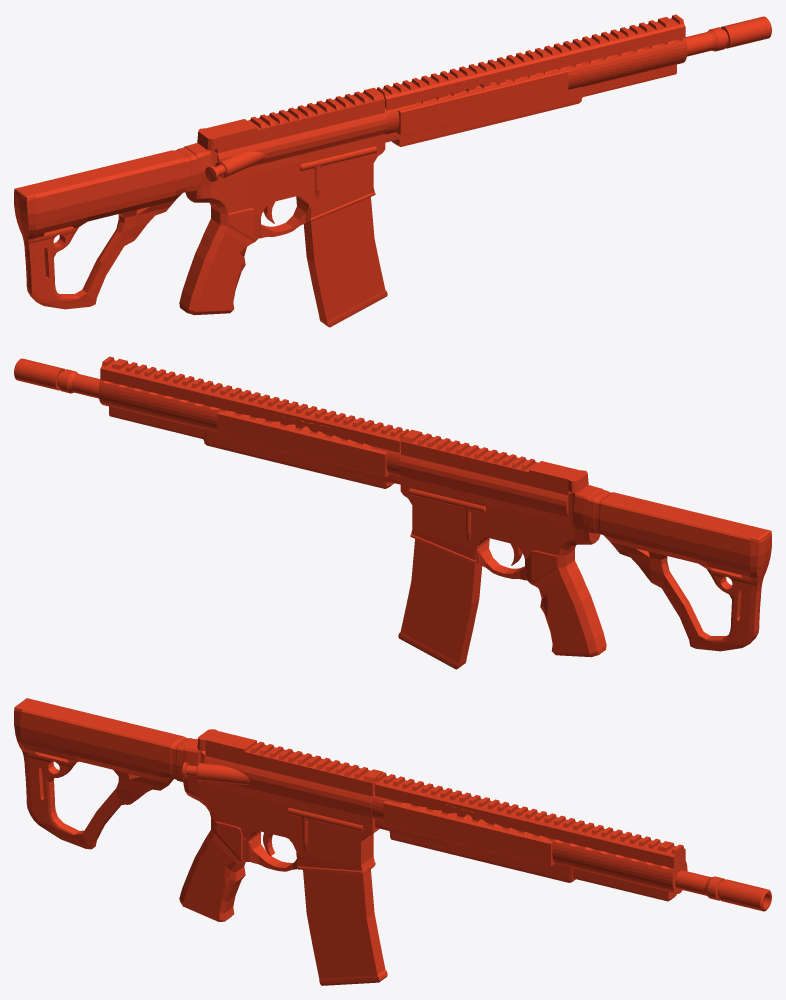
3 views of the same model, one above another, from view 1: azimuth 30°, elevation 25°; view 2: azimuth 150°, elevation 25°; view 3: azimuth 330°, elevation 25° (orthographic).
Parts seen in each view (by area): view 1: Gun, Magazine; view 2: Gun, Magazine; view 3: Gun, Magazine.
Boxes of the visible parts, x1,y1,x2,y2 form: Gun: (14,14,771,315); Magazine: (303,197,387,327); Gun: (14,356,771,657); Magazine: (398,539,482,669); Gun: (14,698,771,921); Magazine: (303,869,387,985).
Bounding box in the file's own units: 894 × 253 × 53.73.
